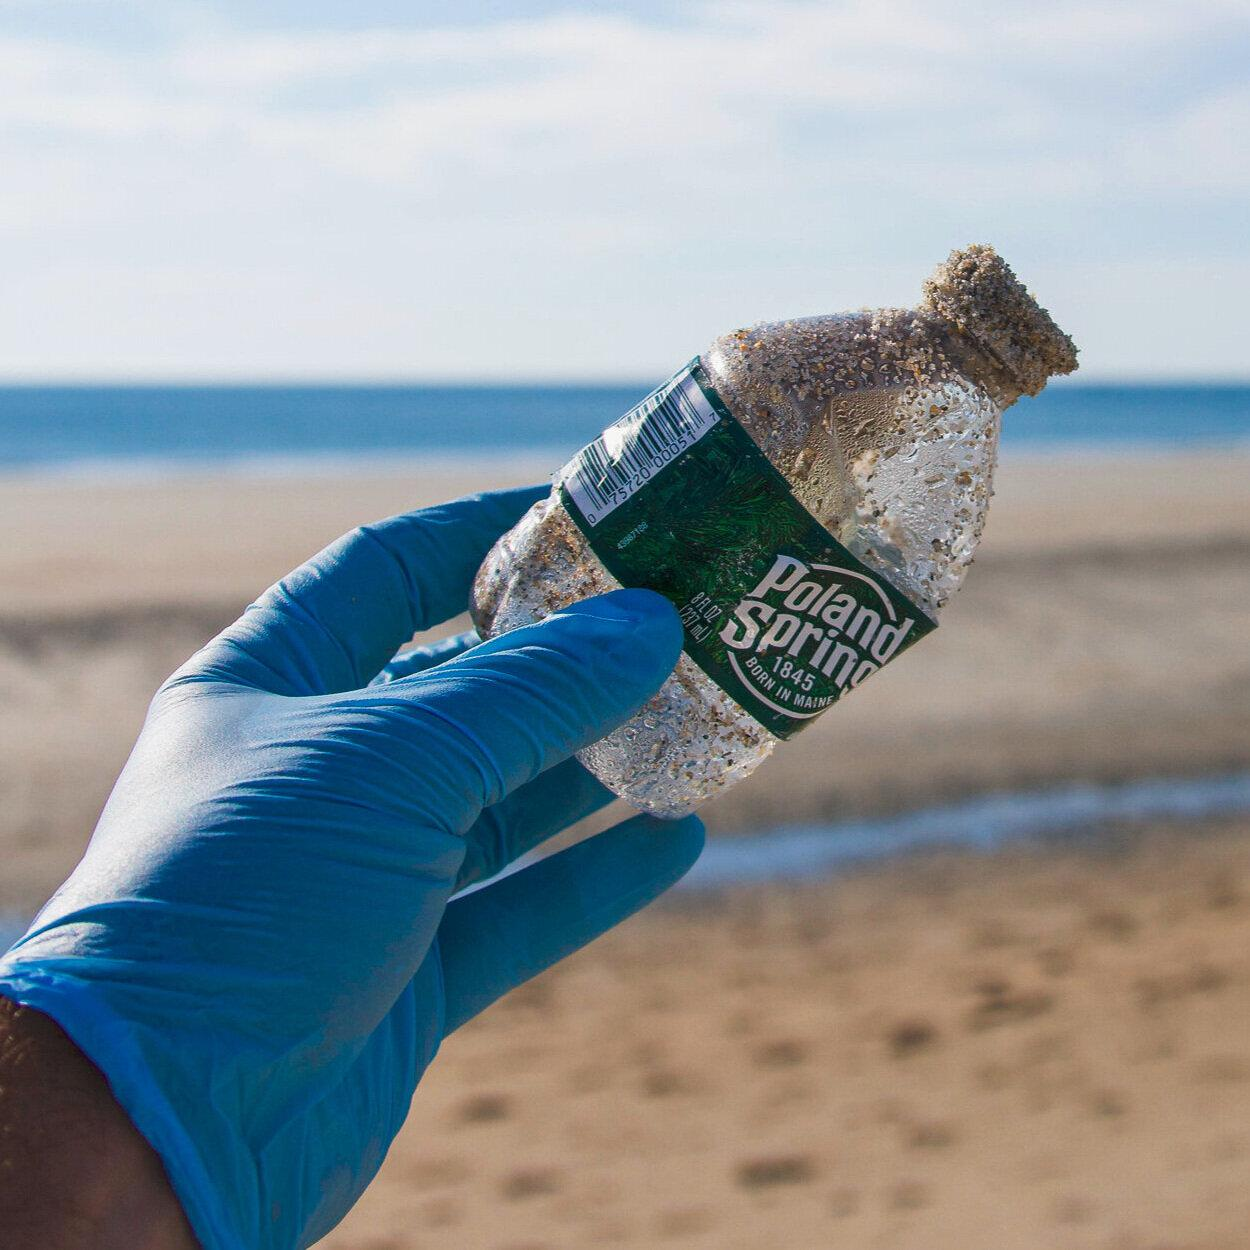plastic: (470, 247, 1081, 815)
